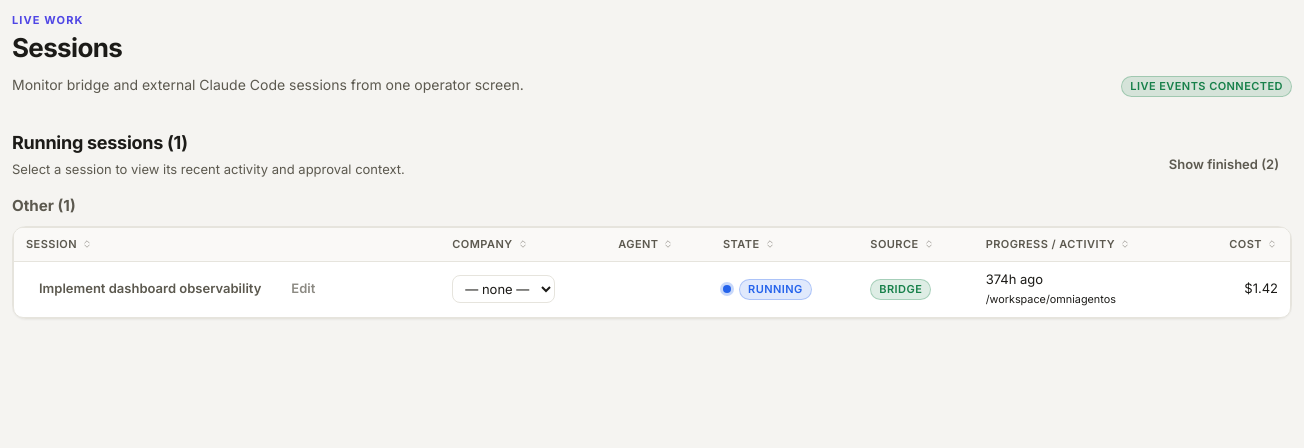
Test case: Running-only default view › hides terminal sessions by default and reveals them via the toggle
Check: the heading "Running sessions (1)" is shown, box [12,132,188,153]
Check: the text "Old finished run" is not shown
Click the button "Show finished (2)": click(1224, 165) [1156,151,1292,179]
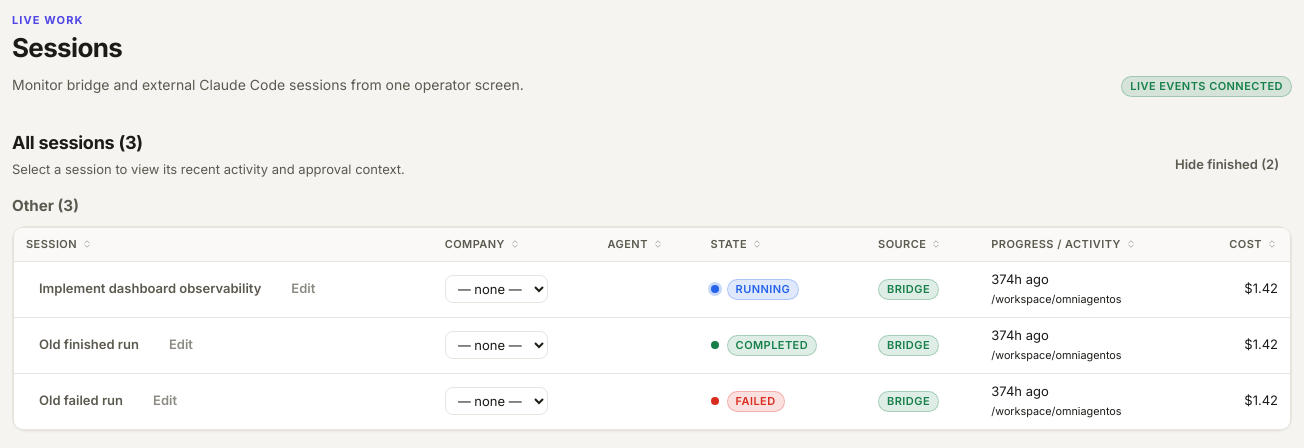
Check: the heading "All sessions (3)" is shown, box [12,132,143,153]
Check: the button "Old finished run" is shown, box [26,331,152,359]
Check: the button "Old failed run" is shown, box [26,387,136,415]
